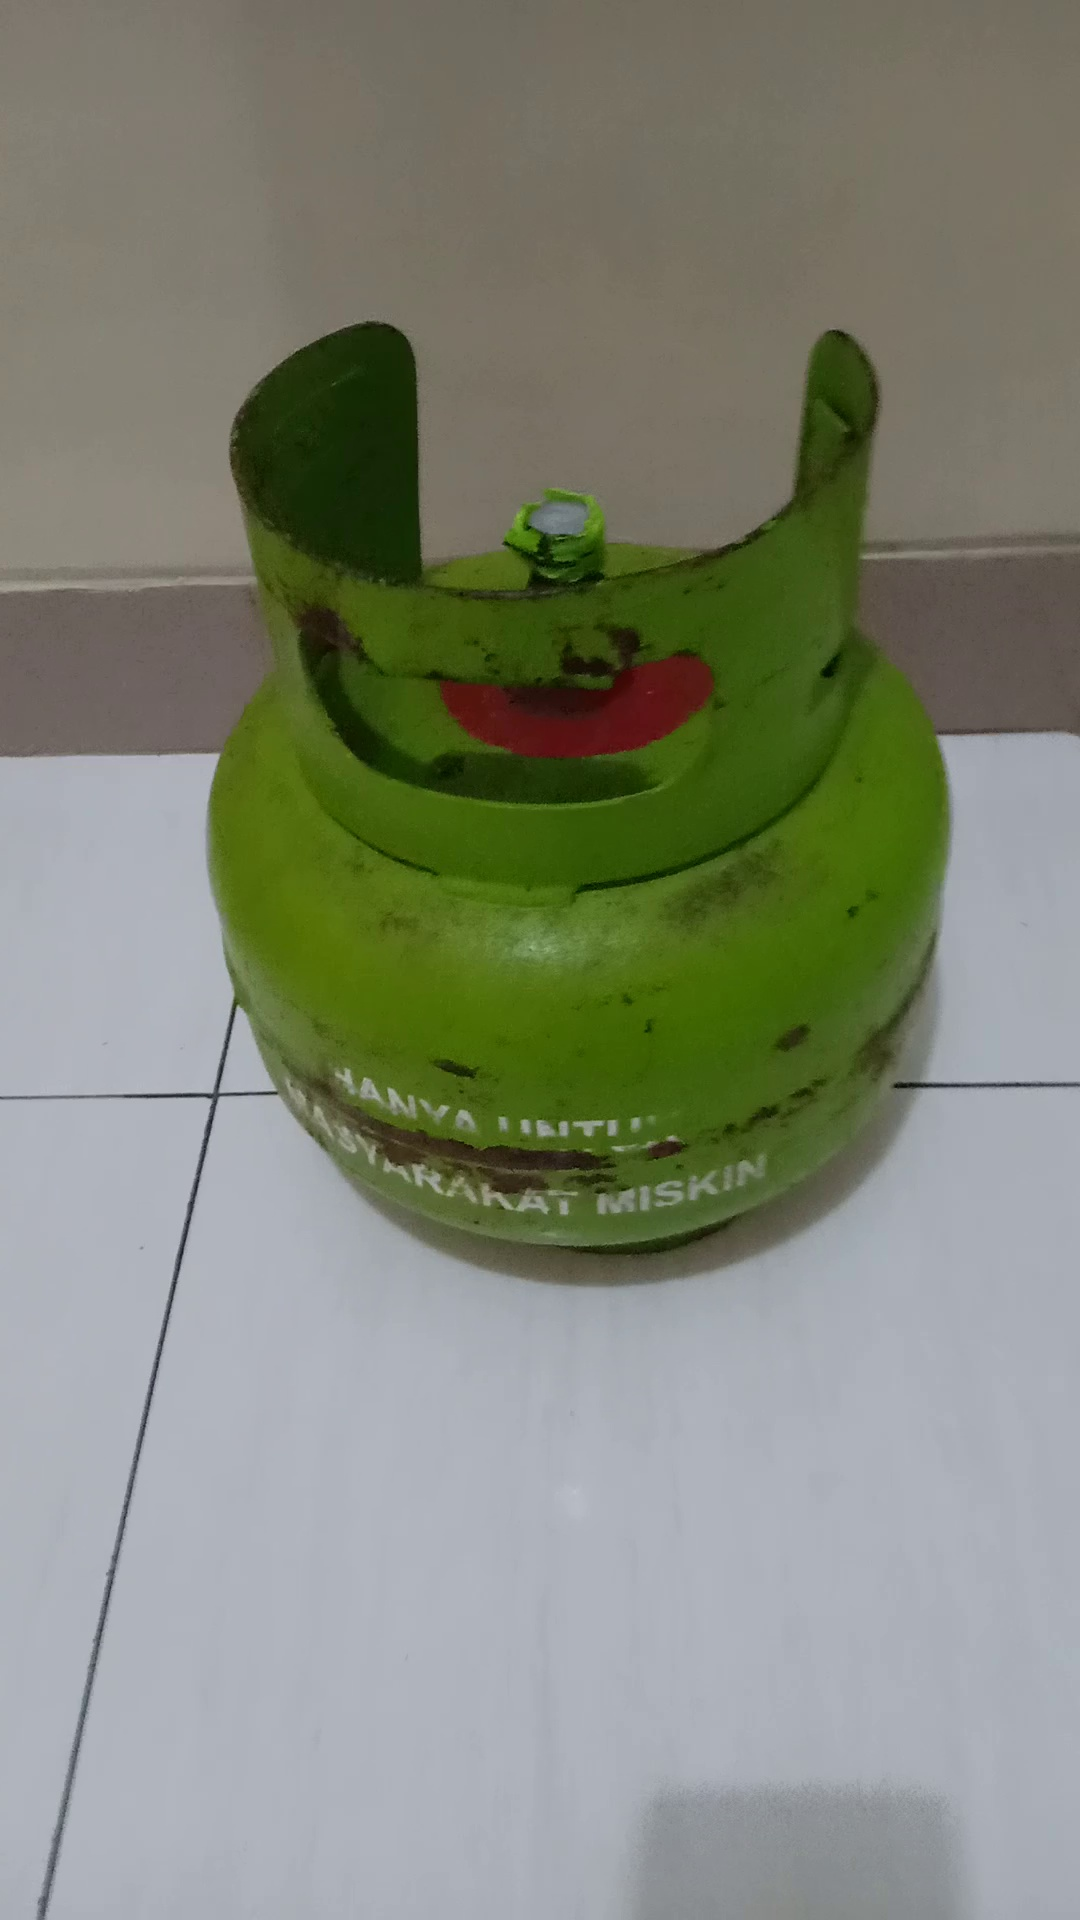gas_ijo: (198, 323, 951, 1266)
